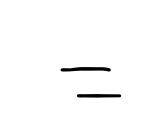eqv: (57, 63, 126, 101)
